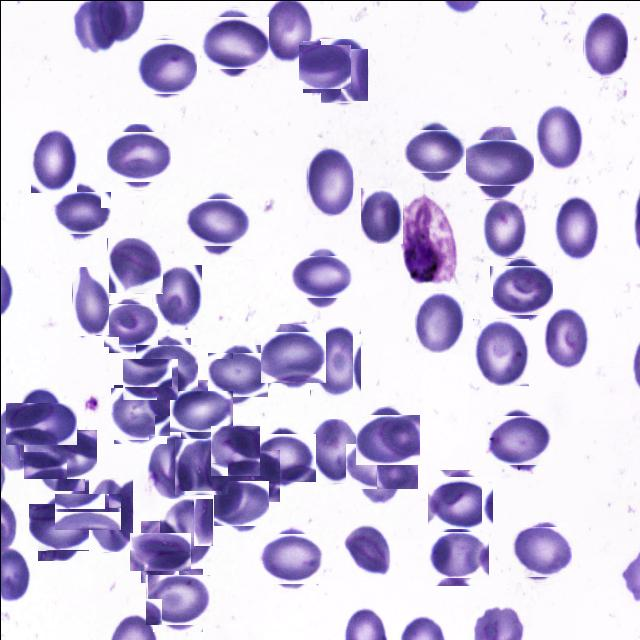red blood cell: (28, 422, 90, 484), (472, 318, 528, 386), (158, 498, 212, 568), (309, 325, 360, 398), (204, 12, 264, 72), (430, 472, 489, 532), (534, 102, 584, 172), (352, 436, 410, 496), (468, 132, 526, 192), (264, 326, 322, 386), (490, 410, 548, 469), (148, 570, 206, 628), (136, 37, 194, 95), (189, 193, 247, 251), (108, 126, 166, 184), (33, 498, 90, 556), (358, 410, 416, 467), (309, 418, 359, 483), (12, 395, 69, 452), (492, 262, 550, 318), (552, 194, 598, 264), (88, 478, 132, 551), (111, 386, 168, 442), (262, 529, 318, 586), (152, 264, 201, 329), (148, 435, 198, 498), (106, 237, 162, 293), (255, 428, 311, 484), (514, 523, 570, 579), (138, 340, 194, 396), (319, 38, 367, 103), (306, 148, 352, 215), (222, 448, 278, 503), (173, 438, 227, 495), (414, 290, 462, 353), (544, 306, 590, 370), (30, 128, 76, 192), (582, 12, 627, 77), (430, 527, 484, 581), (408, 124, 461, 178), (295, 250, 348, 303), (175, 384, 228, 436), (481, 199, 527, 258), (212, 348, 264, 400), (62, 485, 114, 537), (55, 186, 106, 238), (215, 477, 266, 528), (71, 266, 108, 335), (342, 524, 392, 575), (134, 526, 184, 576), (209, 425, 259, 475), (106, 300, 154, 350), (360, 187, 402, 243), (300, 42, 349, 90), (125, 354, 174, 402)
trophozoite: (400, 195, 456, 284)
